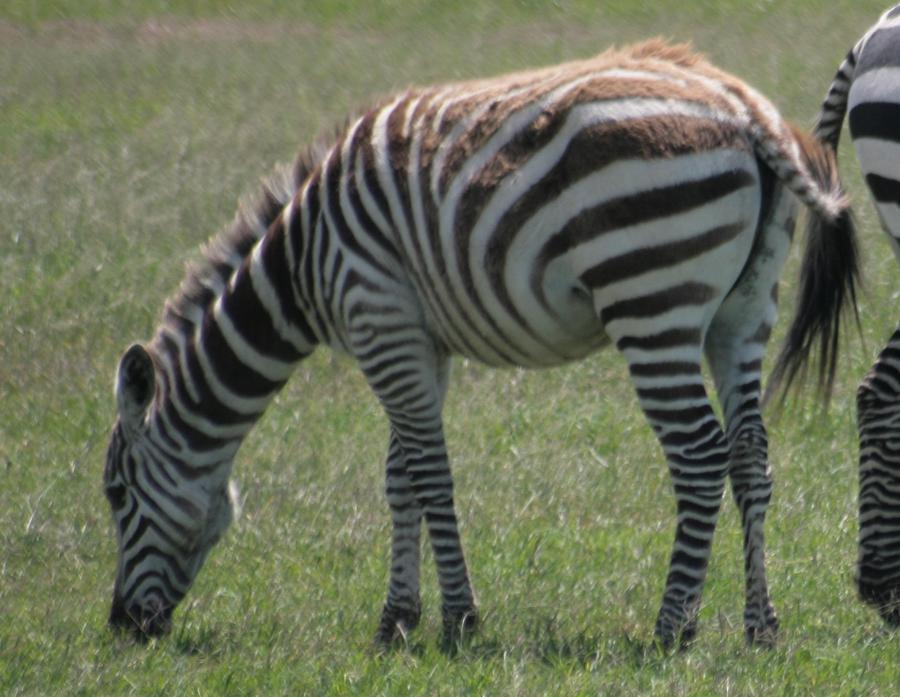zebra_plains: (285, 99, 757, 399)
